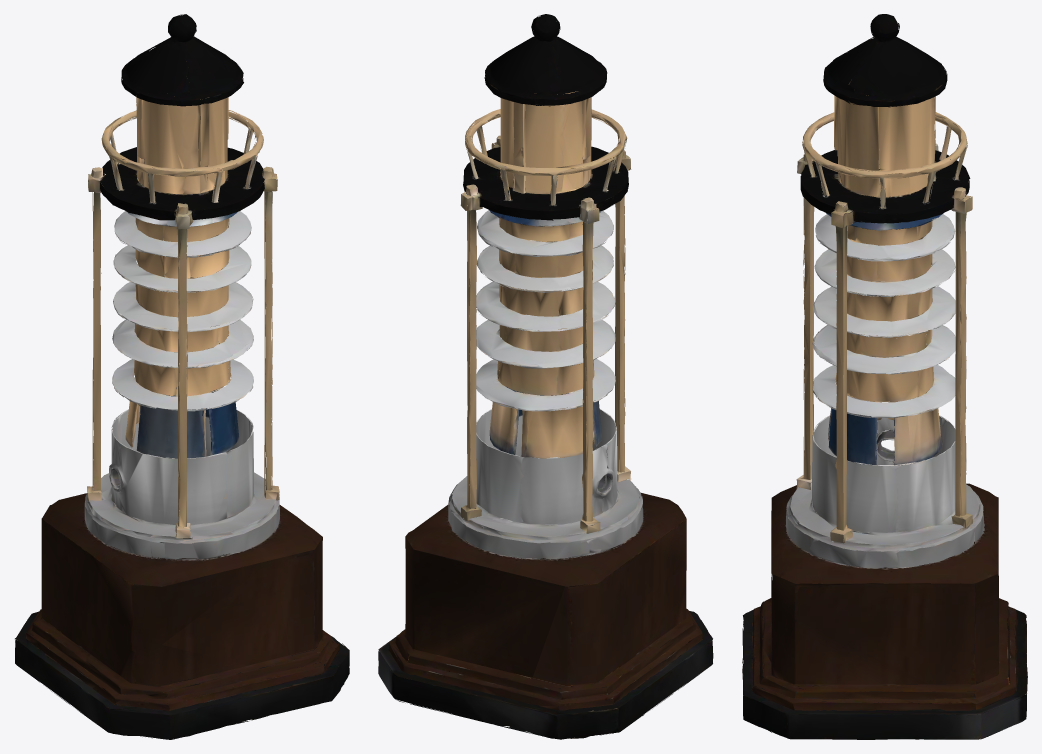
Rendered from trophy-directl-v3-lod.glb.
3 views of the same model, side by side, from view 1: azimuth 30°, elevation 25°; view 2: azimuth 150°, elevation 25°; view 3: azimuth 270°, elevation 25° (orthographic).
Parts seen in each view (by area): view 1: world; view 2: world; view 3: world.
Boxes of the visible parts, box(x1,y1,x2,y2) form: world: box(15, 14, 349, 739); world: box(378, 14, 713, 739); world: box(742, 14, 1027, 739).
Size of the model in its own units: 0.3876 by 1 by 0.3896.
1 material, 1 textured.
